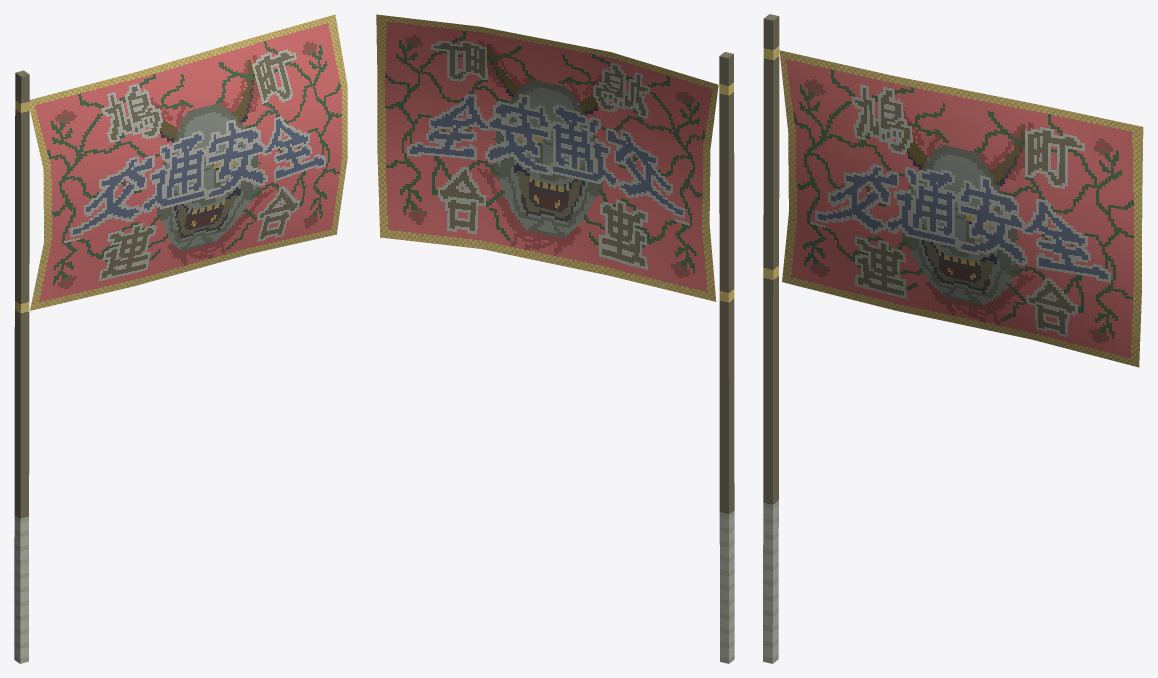
Rendered from 0355_Biker_Flag.glb.
3 renders of one model, left to right at view 1: azimuth 30°, elevation 25°; view 2: azimuth 150°, elevation 25°; view 3: azimuth 330°, elevation 25°, orthographic. The views are drawn at different scales.
Visible parts, largest first — view 1: part_0; view 2: part_0; view 3: part_0.
Part boxes in pixels (left/top/right/bottom): part_0: left=14, top=14, right=347, bottom=663; part_0: left=376, top=14, right=734, bottom=663; part_0: left=763, top=14, right=1143, bottom=663.
Size of the model in its own units: 0.8418 by 1.4 by 0.0938.
Materials: 1 (1 with a texture image).
